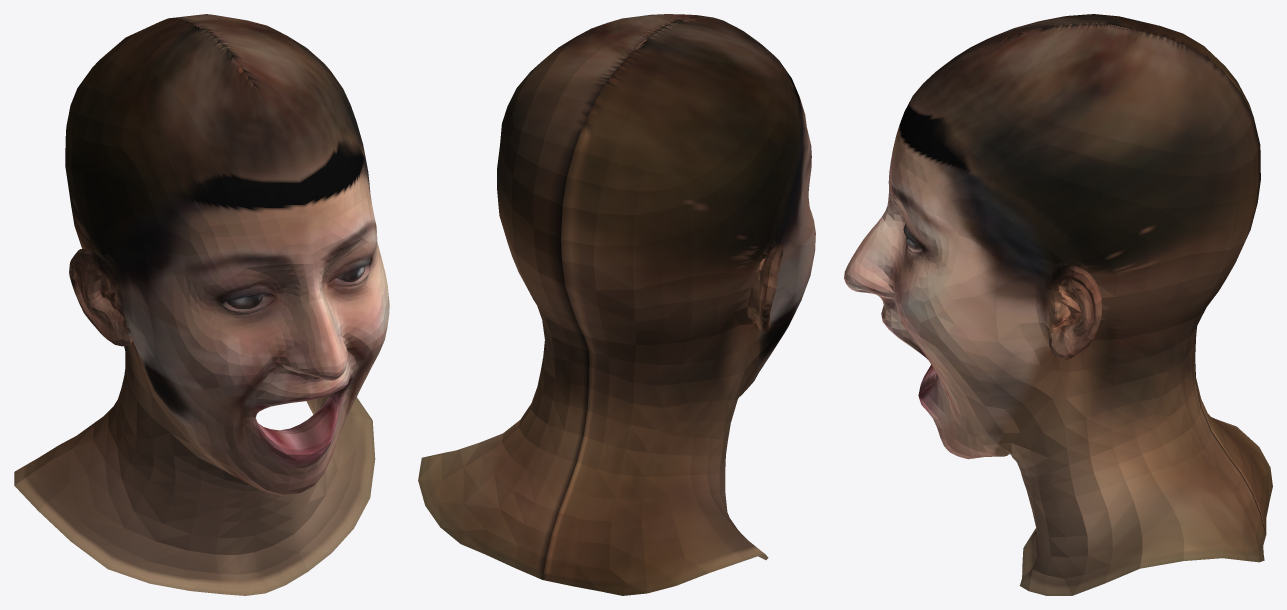
Rendered from face_video_frame0046.obj.
The picture shows the model from 3 angles, left to right: view 1: azimuth 30°, elevation 25°; view 2: azimuth 150°, elevation 25°; view 3: azimuth 270°, elevation 25°; orthographic projection.
Size of the model in its own units: 0.2085 by 0.3226 by 0.2305.
Materials: 1 (1 with a texture image).
